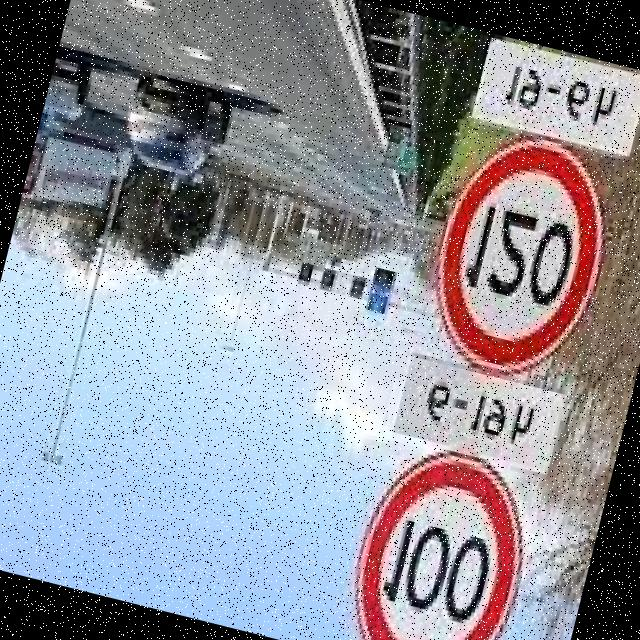speed_limit_100: (328, 430, 553, 640)
speed_limit_120: (410, 118, 638, 396)
